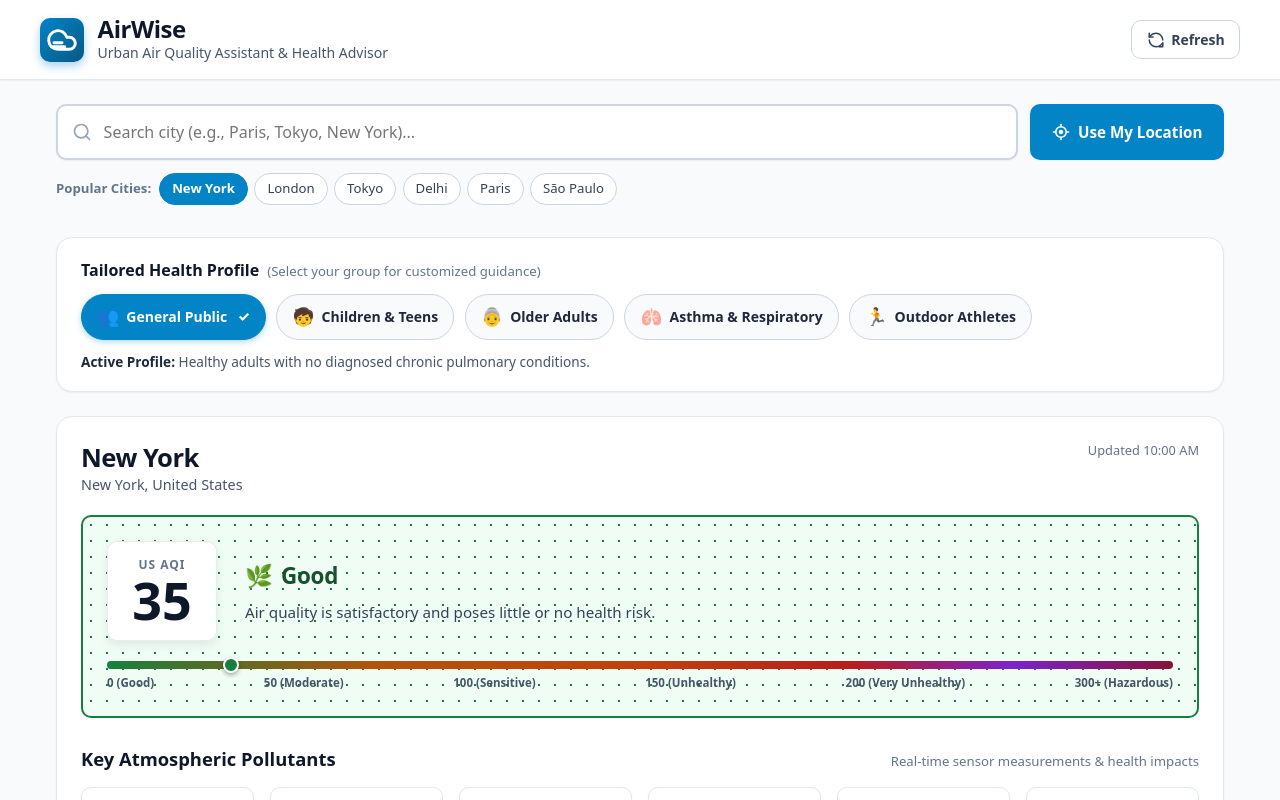
Test: App Component Integration › switches health vulnerability group and re-renders tailored advice
The width and height of the screenshot is (1280, 800).
Expected: the heading "New York" is shown, [81, 440, 199, 475]
# Click "Outdoor Athletes" group tab
Step 1. Click the radio button labelled "🏃 Outdoor Athletes" → x=941, y=317, box [849, 294, 1032, 340]
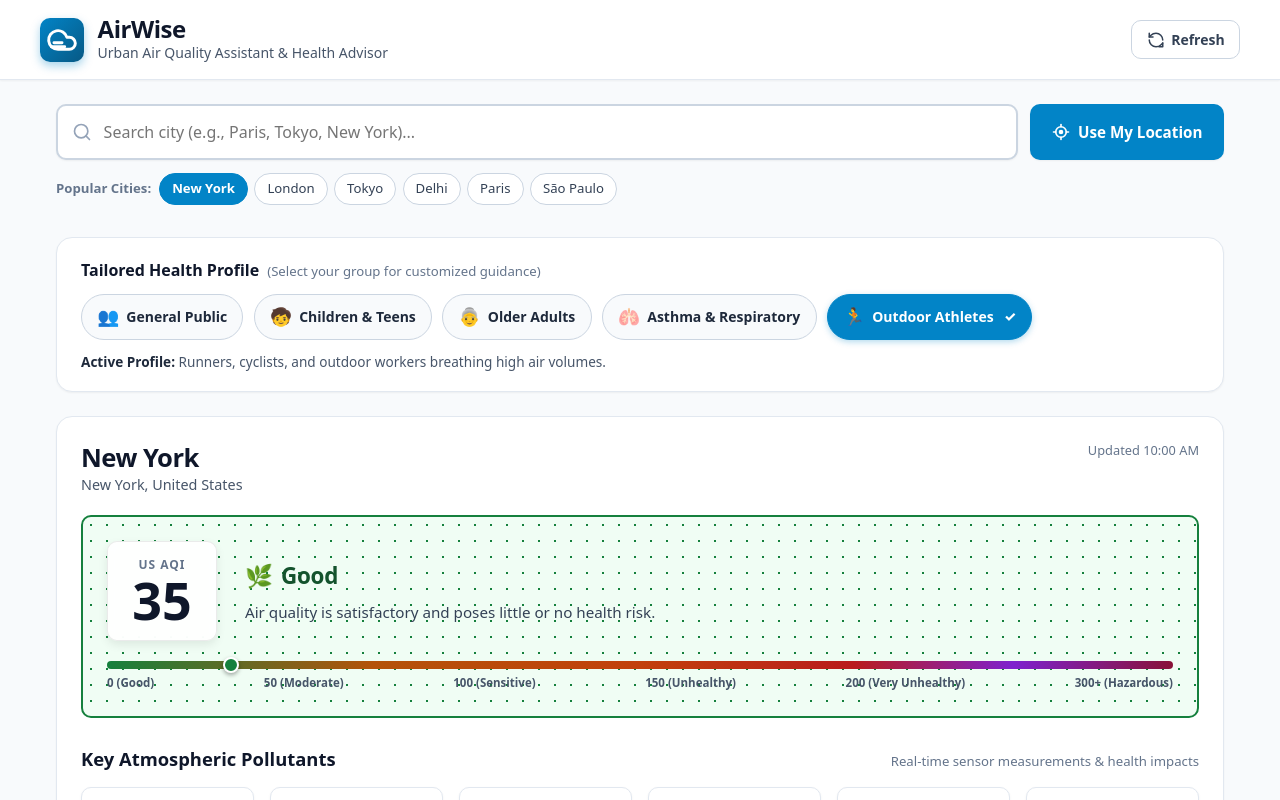
Expected: the text "runners, cyclists, and outdoor workers breathing high air volumes" is shown, [179, 352, 606, 370]
